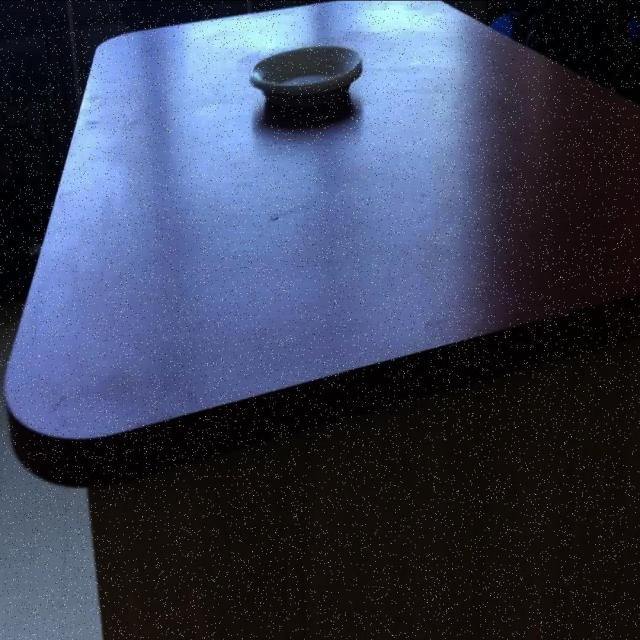Plate: (2, 0, 640, 488), (248, 44, 362, 107)
